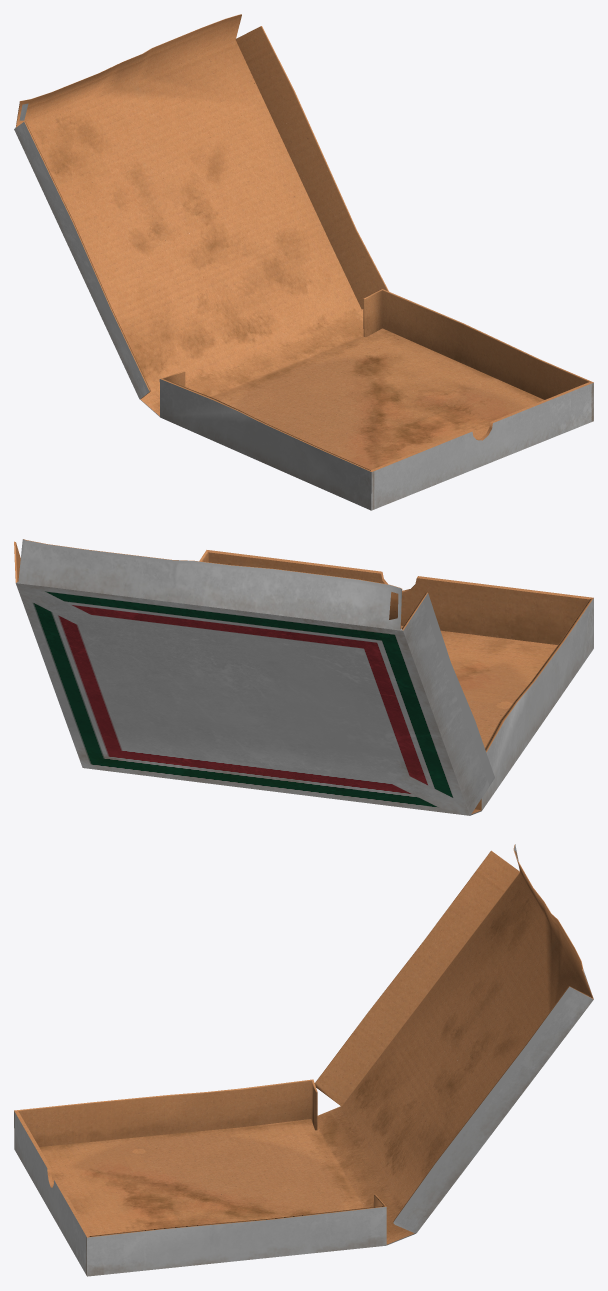
File: Pizza.fbx
The picture shows the model from 3 angles, top to bottom: view 1: azimuth 30°, elevation 25°; view 2: azimuth 150°, elevation 25°; view 3: azimuth 270°, elevation 25°; orthographic projection. The views are drawn at different scales.
Visible parts, largest first — view 1: sm32_108_pizza01a_00ms; view 2: sm32_108_pizza01a_00ms; view 3: sm32_108_pizza01a_00ms.
Boxes of the visible parts, box(x1,y1,x2,y2) form: sm32_108_pizza01a_00ms: box(14, 14, 593, 510); sm32_108_pizza01a_00ms: box(14, 539, 593, 815); sm32_108_pizza01a_00ms: box(14, 844, 593, 1276).
Size of the model in its own units: 65.24 by 42.67 by 88.11.
Materials: 1 (1 with a texture image).
